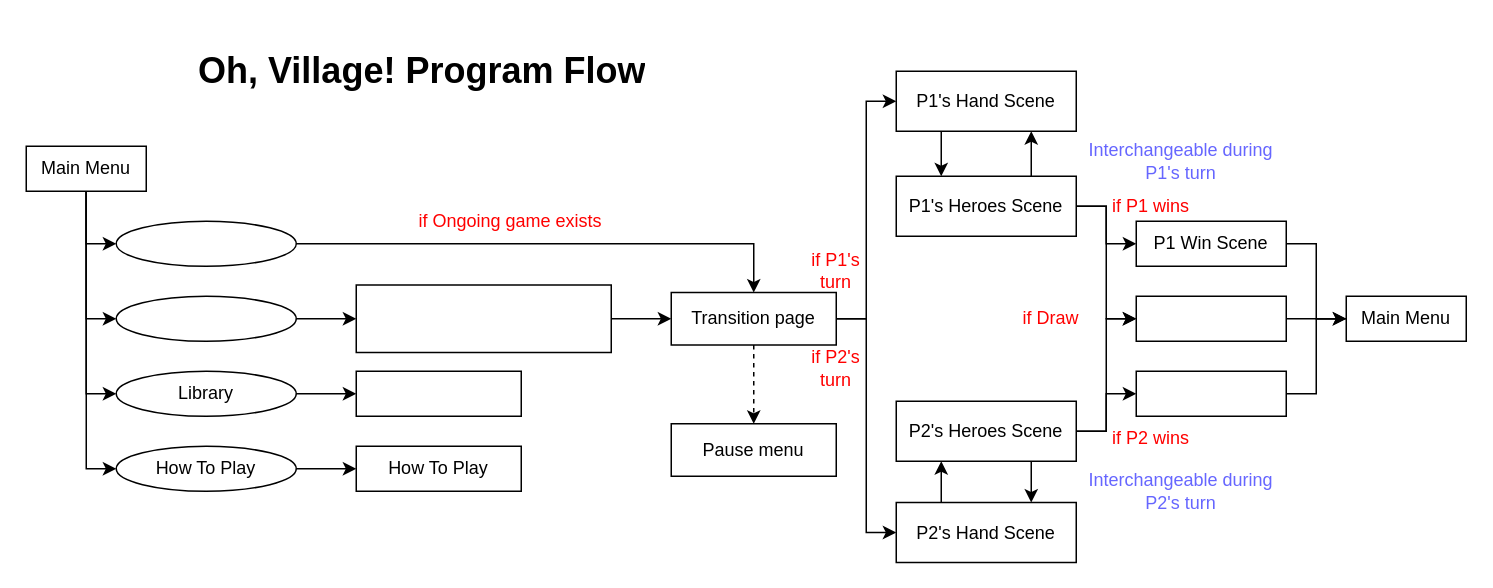
Some shapes in this 1493 by 588 pixel diagram are drawn without their labels. Each missing label, with the box of its shape:
Cards Library: (355, 370, 521, 416)
Continue: (115, 220, 296, 266)
Customise Names, starting HP, and total turns: (355, 284, 611, 352)
Draw Scene: (1135, 295, 1286, 341)
New Game: (115, 295, 296, 341)
P2 Win Scene: (1135, 370, 1286, 416)
